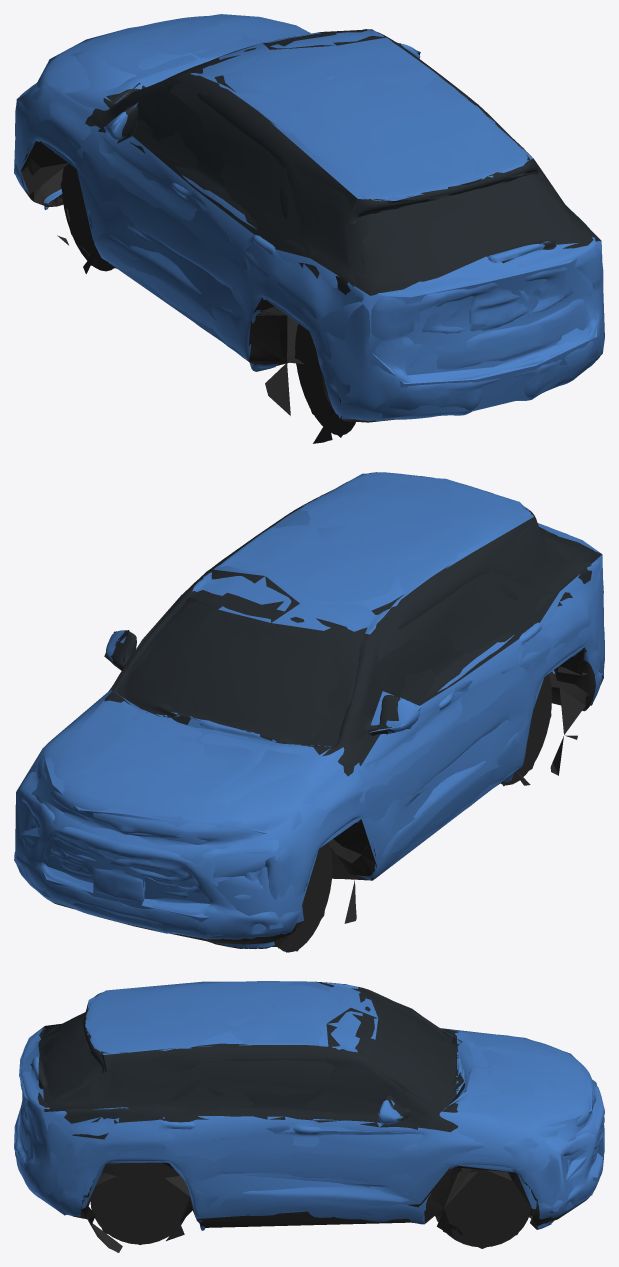
The model's file is chevrolet-trailblazer.glb.
The picture shows the model from 3 angles, top to bottom: view 1: azimuth 30°, elevation 25°; view 2: azimuth 150°, elevation 25°; view 3: azimuth 270°, elevation 25°; orthographic projection. The views are drawn at different scales.
Parts seen in each view (by area): view 1: body, far; view 2: body, far; view 3: body, far.
Boxes of the visible parts, left/top/right/bottom form: body: left=14, top=15, right=603, bottom=443; far: left=14, top=14, right=604, bottom=441; body: left=14, top=472, right=604, bottom=952; far: left=14, top=473, right=603, bottom=951; body: left=15, top=981, right=604, bottom=1252; far: left=14, top=981, right=604, bottom=1248.
Size of the model in its own units: 2.06 by 1.71 by 4.5.
